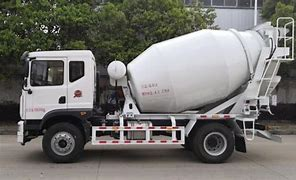specialcar: (10, 22, 282, 159)
